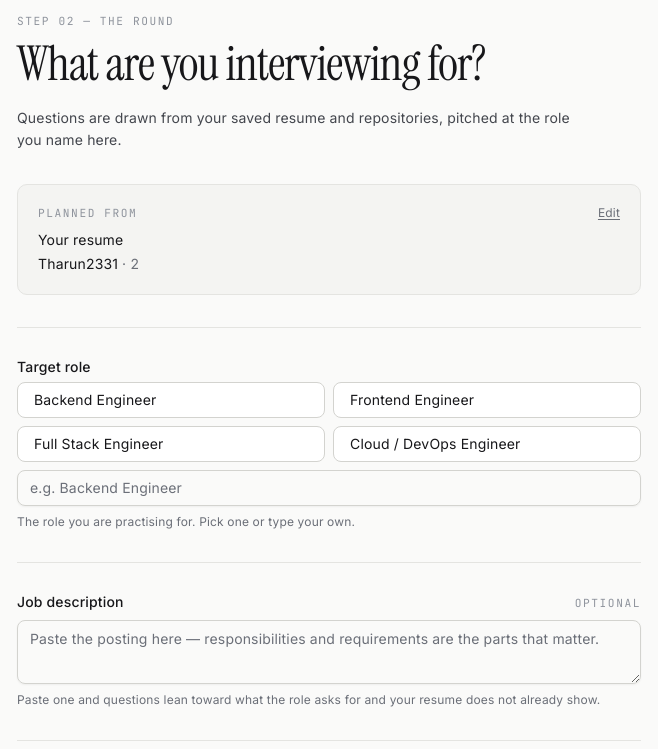
Test: the company fields › disappear again if the posting is cleared
Replace the text in the text box labelled "Job description" with "We need Kubernetes and Kafka experience." at (329, 652), box [17, 620, 641, 684]
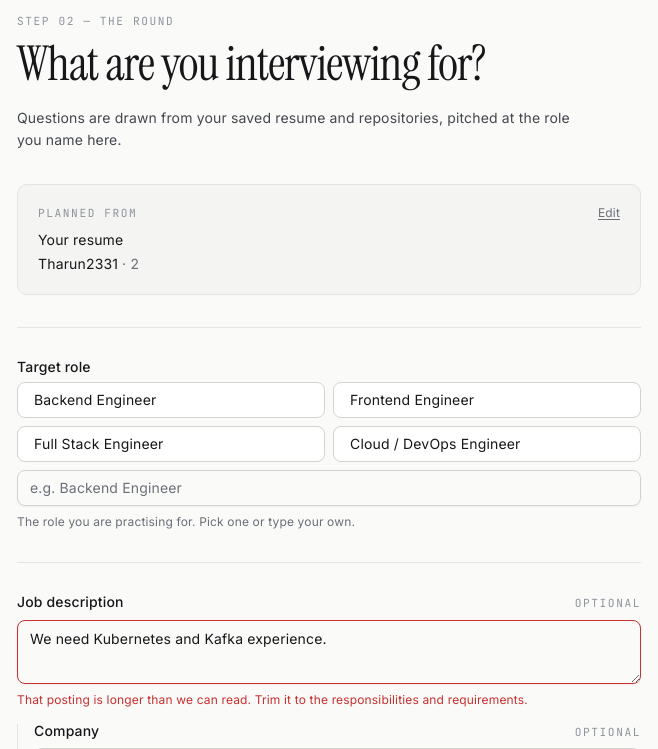
Clear the text box labelled "Job description" at (329, 652), box [17, 620, 641, 684]
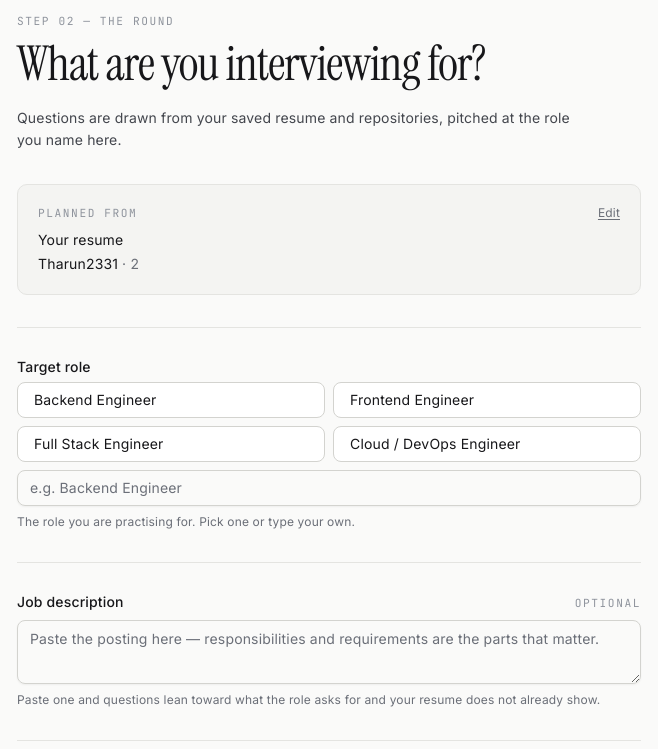
Now the label labelled "Company" is gone
